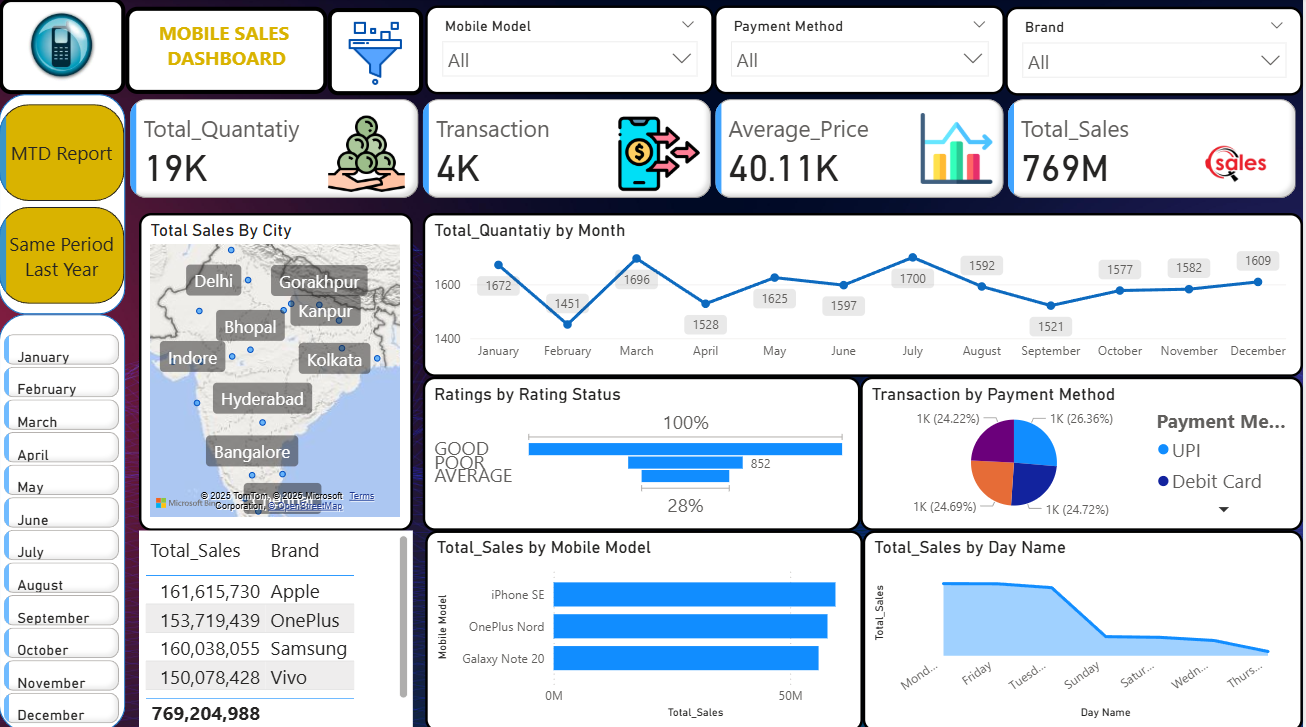

Layout of this report page (visuals, bound fields, positions):
{"tool":"powerbi","page":{"name":"Dashboard","canvas":[1280,720],"ordinal":0},"visuals":[{"type":"image","box":[0,0,123.9,94.5],"z":0},{"type":"shape","box":[0,94.5,123.9,216],"z":1000},{"type":"shape","box":[0,310.4,123.9,409.8],"z":2000},{"type":"advancedSlicerVisual","fields":{"Values":["Costom_Calendar.DATE.Variation.Date Hierarchy.Month"]},"box":[0,325.2,123.9,395.1],"z":3000},{"type":"cardVisual","fields":{"Data":["M_SALES_DATA.Total_Quantatiy","M_SALES_DATA.Transaction","M_SALES_DATA.Average_Price","M_SALES_DATA.Total_Sales"]},"box":[123.9,94.5,1155.8,108],"z":4000},{"type":"slicer","fields":{"Values":["M_SALES_DATA.Mobile Model"]},"box":[418.4,7.4,283.4,87.1],"z":5000},{"type":"slicer","fields":{"Values":["M_SALES_DATA.Payment Method"]},"box":[701.8,7.4,285.9,87.1],"z":6000},{"type":"slicer","fields":{"Values":["M_SALES_DATA.Brand"]},"box":[987.7,8.6,292,87.1],"z":7000},{"type":"textbox","box":[123.9,8.6,198.8,85.9],"z":8000},{"type":"textbox","box":[322.7,9.8,93.3,85.9],"z":9000},{"type":"image","box":[332.5,13.5,73.6,81],"z":10000},{"type":"map","fields":{"Category":["M_SALES_DATA.City"]},"box":[137.4,211,268.7,311.7],"z":11000},{"type":"lineChart","fields":{"Category":["Costom_Calendar.DATE.Variation.Date Hierarchy.Month"],"Y":["M_SALES_DATA.Total_Quantatiy"]},"box":[416,211,863.8,160.7],"z":12000},{"type":"funnel","title":"Ratings by Rating Status","fields":{"Y":["CountNonNull(M_SALES_DATA.Customer Ratings)"],"Category":["M_SALES_DATA.Rating Status"]},"box":[416,371.8,429.5,150.9],"z":13000},{"type":"pieChart","fields":{"Y":["M_SALES_DATA.Transaction"],"Category":["M_SALES_DATA.Payment Method"]},"box":[845.4,371.8,434.4,150.9],"z":14000},{"type":"clusteredBarChart","fields":{"Y":["M_SALES_DATA.Total_Sales"],"Category":["M_SALES_DATA.Mobile Model"]},"box":[418.4,522.7,429.5,197.5],"z":15000},{"type":"stackedAreaChart","fields":{"Category":["Costom_Calendar.Day Name"],"Y":["M_SALES_DATA.Total_Sales"]},"box":[847.9,522.7,431.9,197.5],"z":16000},{"type":"tableEx","fields":{"Values":["M_SALES_DATA.Total_Sales","M_SALES_DATA.Brand"]},"box":[137,523,269,197],"z":17000},{"type":"pageNavigator","box":[0,104.3,123.9,197.5],"z":18000}]}

Visuals, with their boxes in screenshot pixels (x1, y1, x2, y2), scaled from the page's 1280x720 canvas onto the 1306x727 screenshot:
image: 0 0 126 95
shape: 0 95 126 314
shape: 0 313 126 726
advancedSlicerVisual - Costom_Calendar.DATE.Variation.Date Hierarchy.Month: 0 328 126 726
cardVisual - M_SALES_DATA.Total_Quantatiy x M_SALES_DATA.Transaction: 126 95 1305 204
slicer - M_SALES_DATA.Mobile Model: 427 7 716 95
slicer - M_SALES_DATA.Payment Method: 716 7 1008 95
slicer - M_SALES_DATA.Brand: 1008 9 1305 97
textbox: 126 9 329 95
textbox: 329 10 424 97
image: 339 14 414 95
map - M_SALES_DATA.City: 140 213 414 528
lineChart - Costom_Calendar.DATE.Variation.Date Hierarchy.Month x M_SALES_DATA.Total_Quantatiy: 424 213 1305 375
"Ratings by Rating Status" funnel: 424 375 863 528
pieChart - M_SALES_DATA.Transaction x M_SALES_DATA.Payment Method: 863 375 1305 528
clusteredBarChart - M_SALES_DATA.Total_Sales x M_SALES_DATA.Mobile Model: 427 528 865 726
stackedAreaChart - Costom_Calendar.Day Name x M_SALES_DATA.Total_Sales: 865 528 1305 726
tableEx - M_SALES_DATA.Total_Sales x M_SALES_DATA.Brand: 140 528 414 726
pageNavigator: 0 105 126 305
